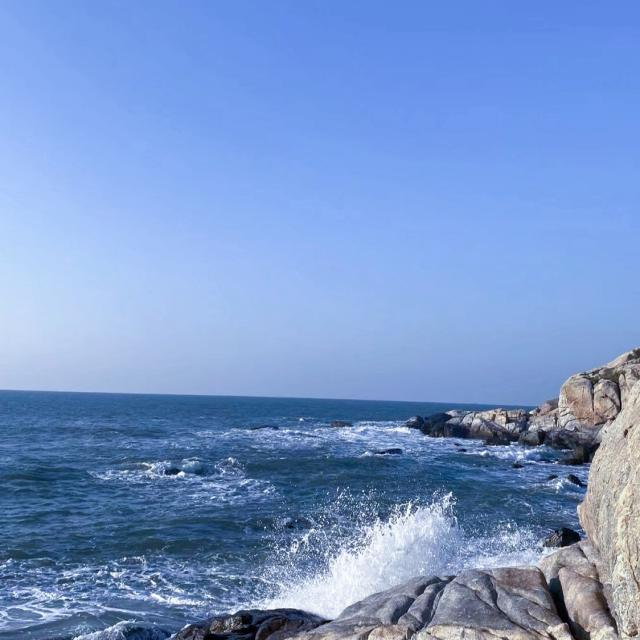reef: (220, 533, 524, 640), (399, 377, 564, 452)
